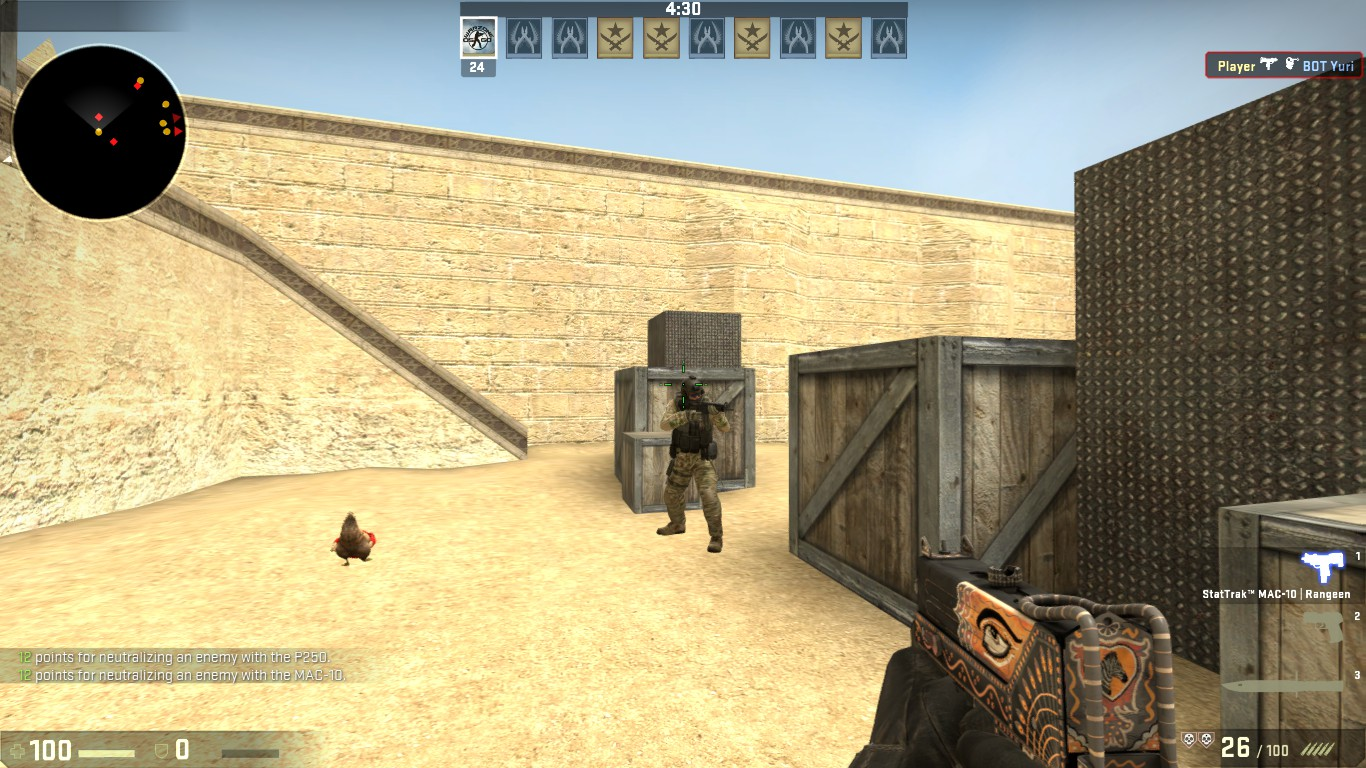c: (661, 375, 726, 547)
ch: (676, 375, 710, 407)
